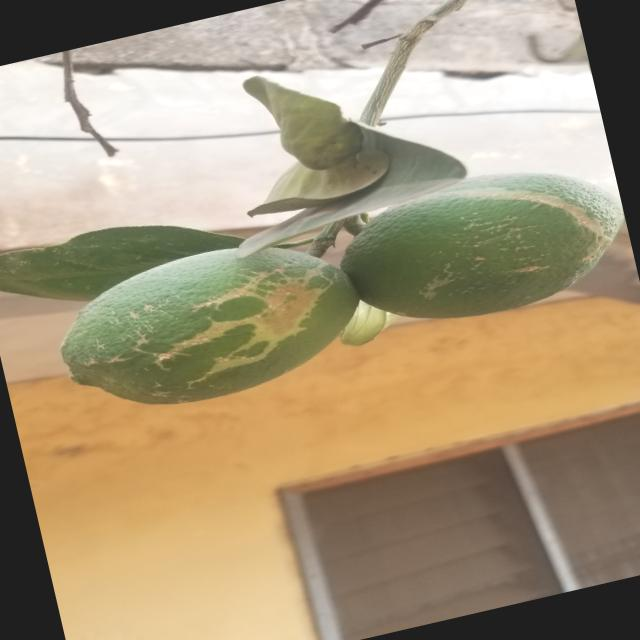Unripe: (39, 224, 374, 435), (334, 146, 636, 344)
